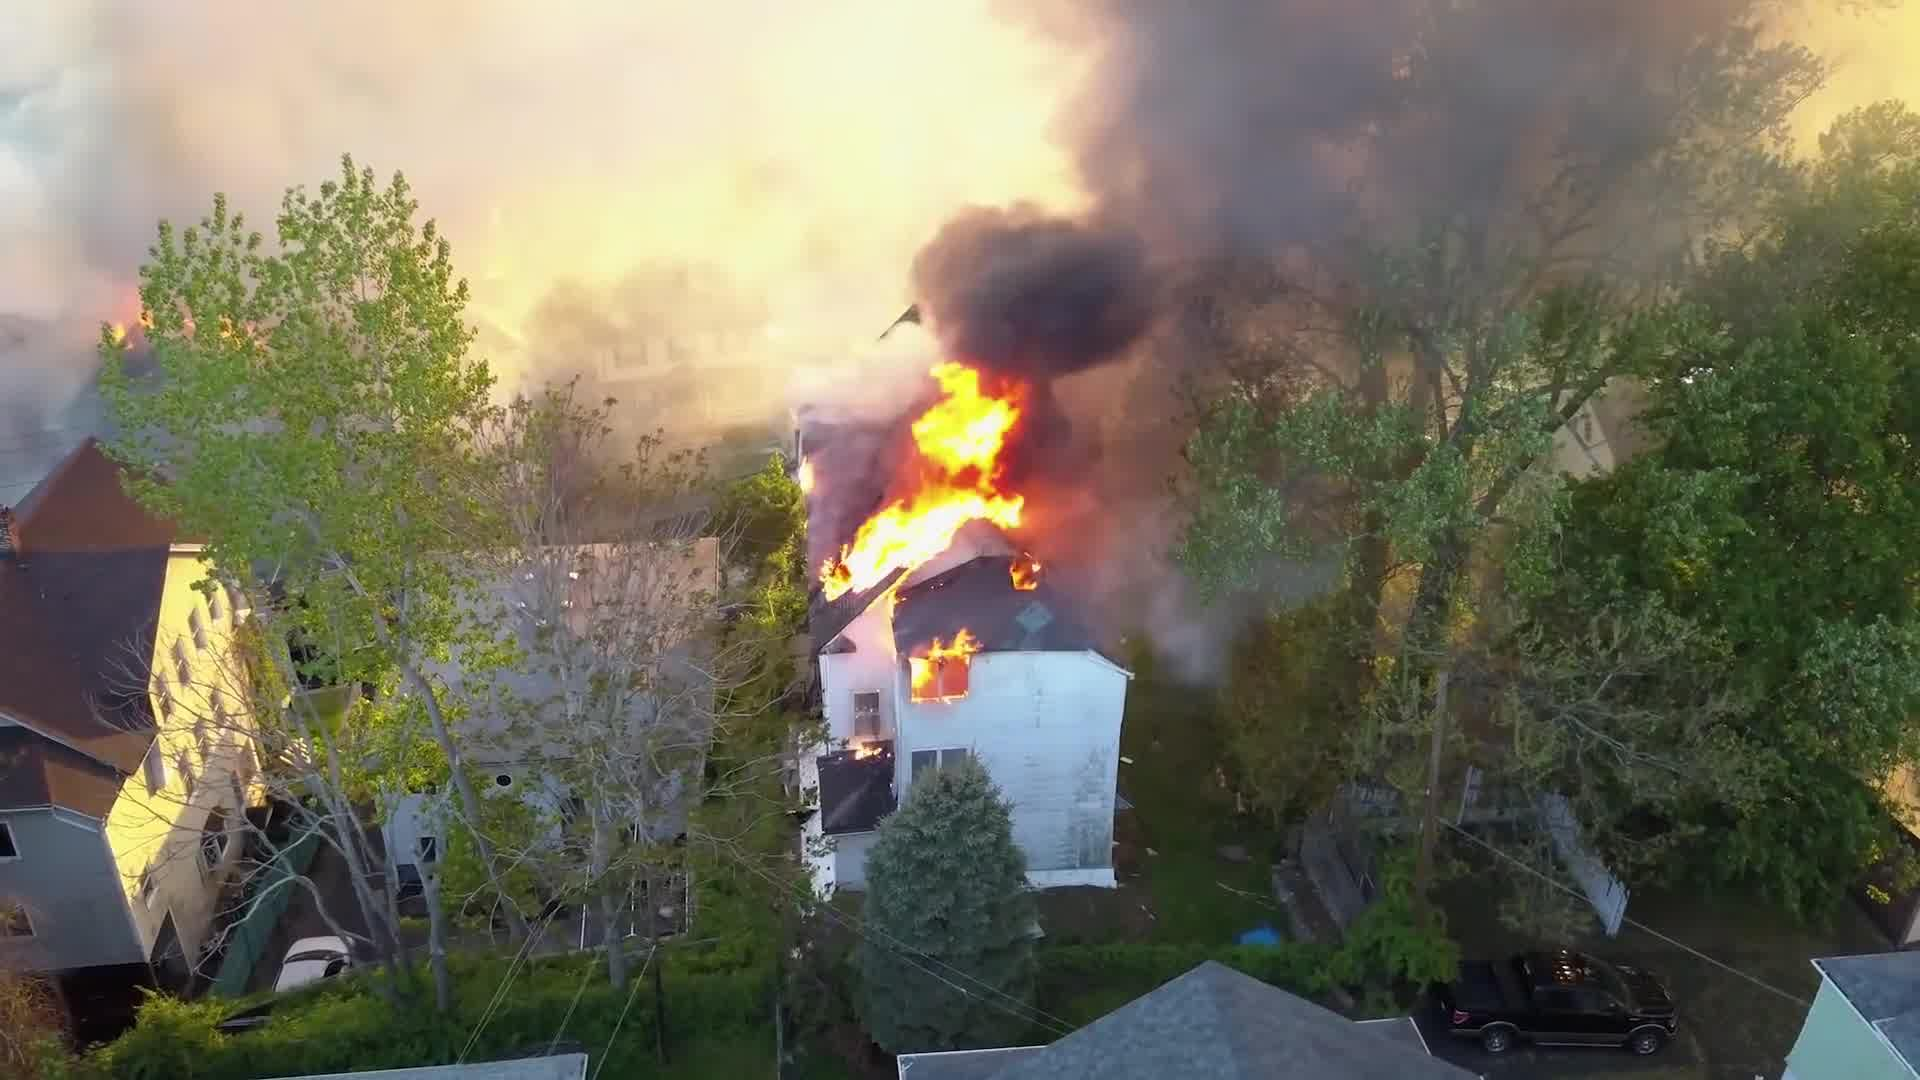fire: (911, 389, 1011, 547)
smoke: (1107, 10, 1727, 223), (937, 224, 1136, 366)
